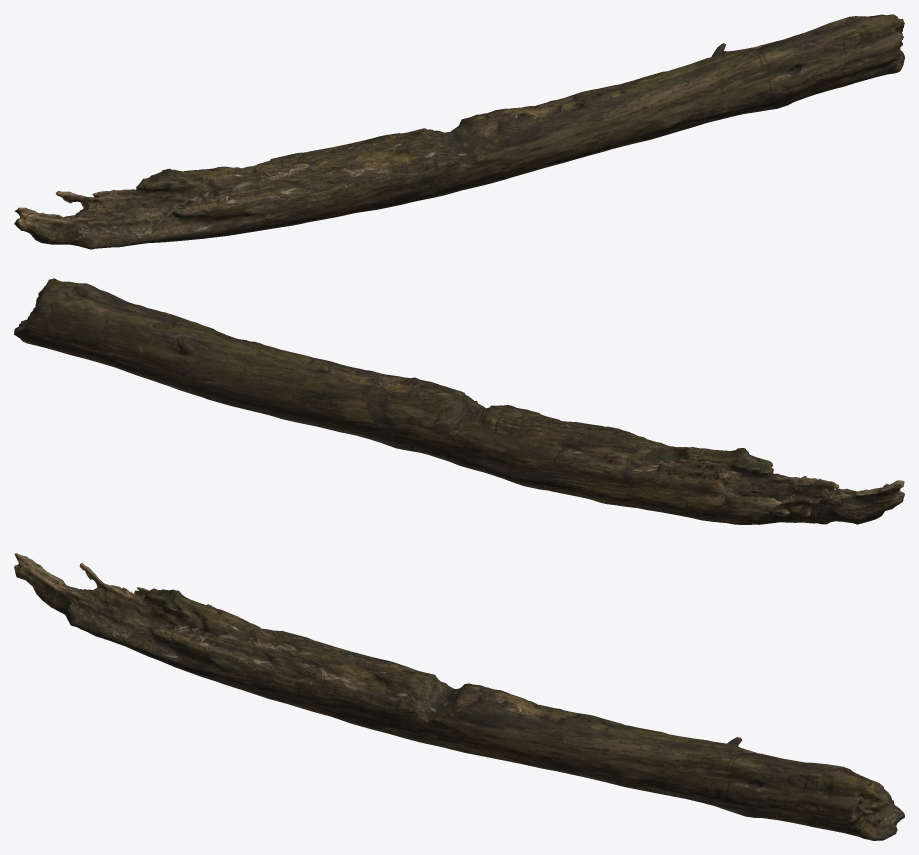
File: dead_tree_trunk.glb
3 views of the same model, one above another, from view 1: azimuth 30°, elevation 25°; view 2: azimuth 150°, elevation 25°; view 3: azimuth 330°, elevation 25° (orthographic).
Parts seen in each view (by area): view 1: dead_tree_trunk; view 2: dead_tree_trunk; view 3: dead_tree_trunk.
Boxes of the visible parts, x1,y1,x2,y2 form: dead_tree_trunk: (14, 14, 904, 249); dead_tree_trunk: (14, 278, 904, 524); dead_tree_trunk: (14, 553, 904, 840).
Size of the model in its own units: 3.05 by 0.2895 by 0.2768.
1 material, 1 textured.
